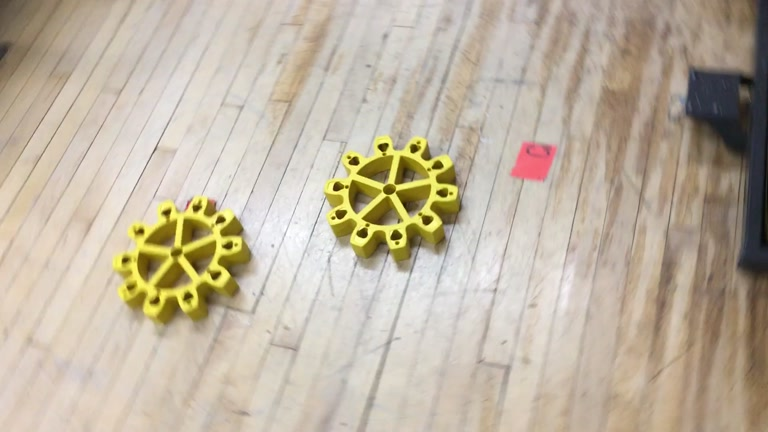gear: (112, 194, 251, 324), (324, 136, 462, 263)
